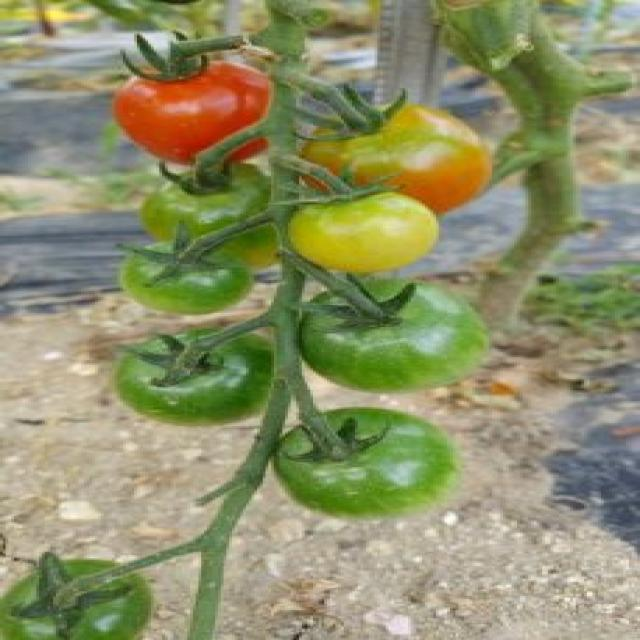level 1: (246, 395, 478, 523), (99, 317, 295, 435), (0, 546, 160, 640)
level 3: (282, 185, 444, 283)
level 4: (308, 88, 507, 208)
level 6: (263, 274, 481, 396), (91, 40, 287, 162), (150, 159, 298, 273), (114, 240, 256, 325)
